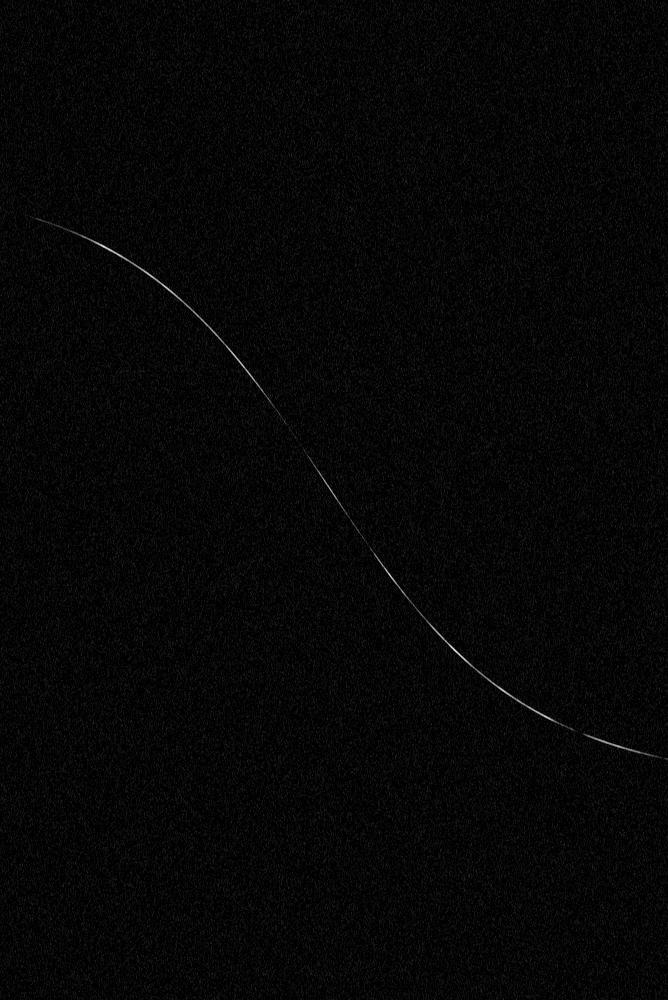signal: (0, 0, 667, 999)
